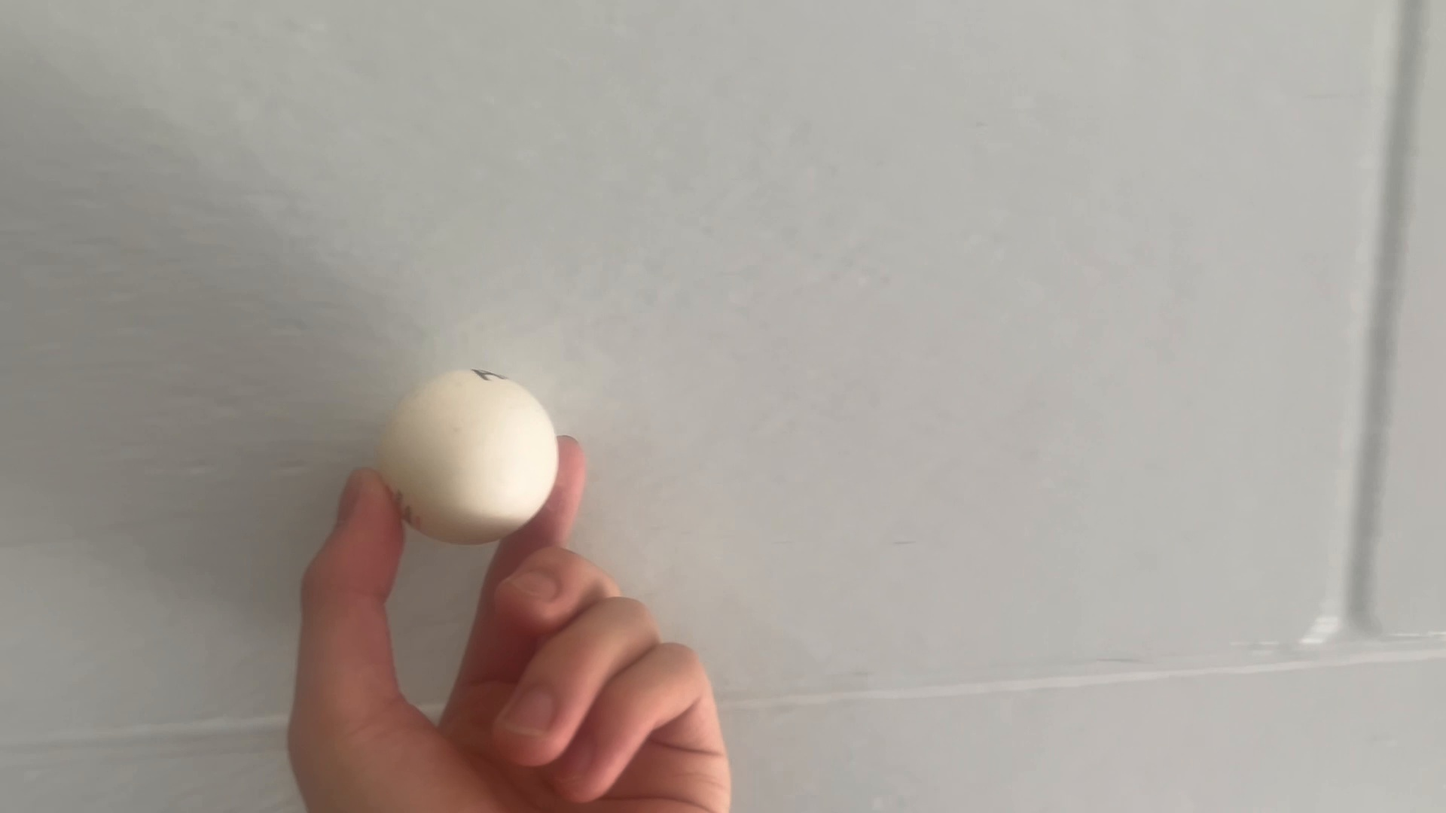Ball: (345, 355, 584, 544)
